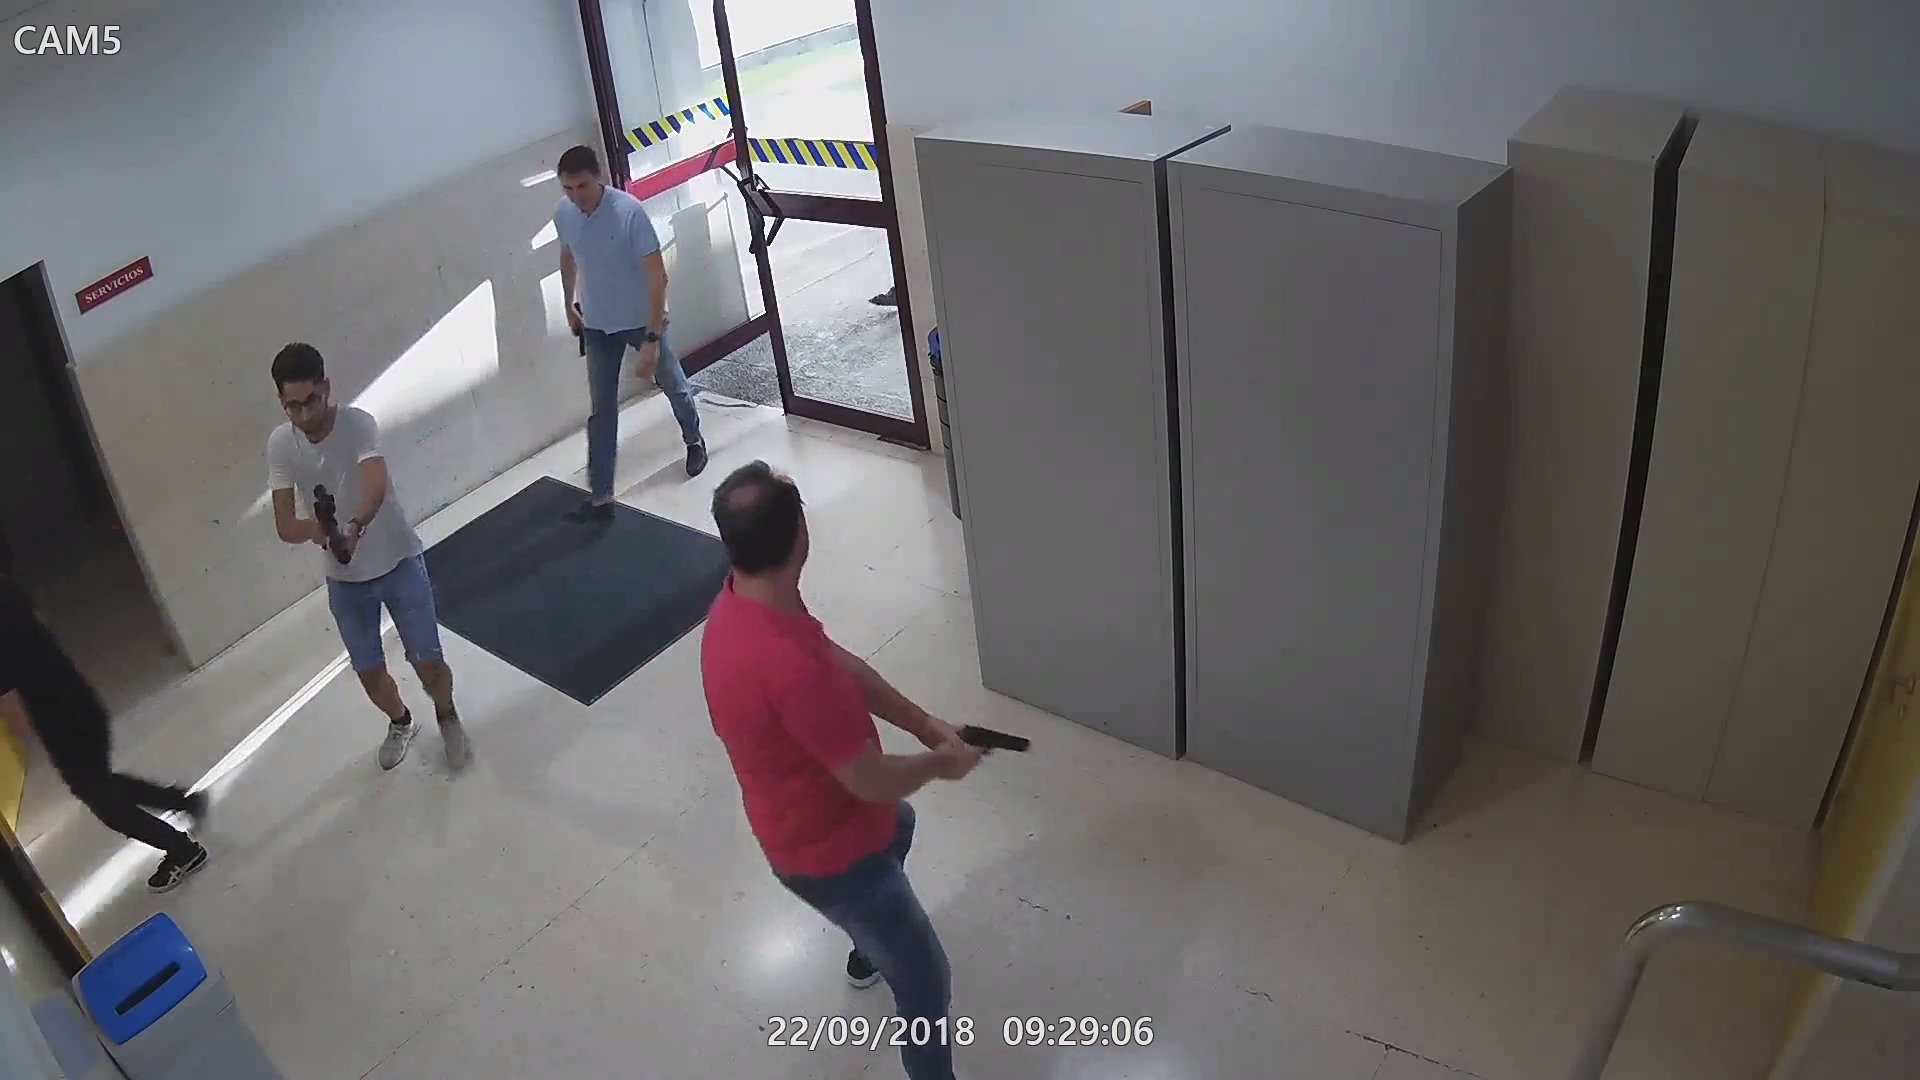Handgun: (934, 716, 1033, 785)
Short_rifle: (305, 481, 357, 568)
